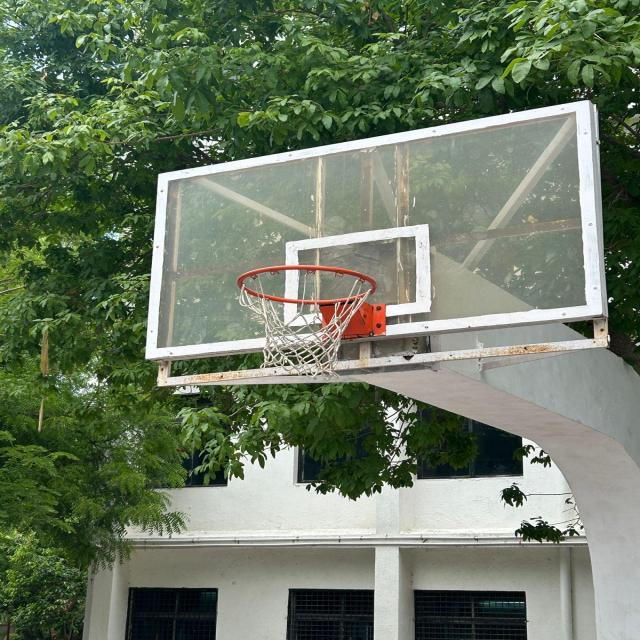hoop: (230, 261, 402, 389)
